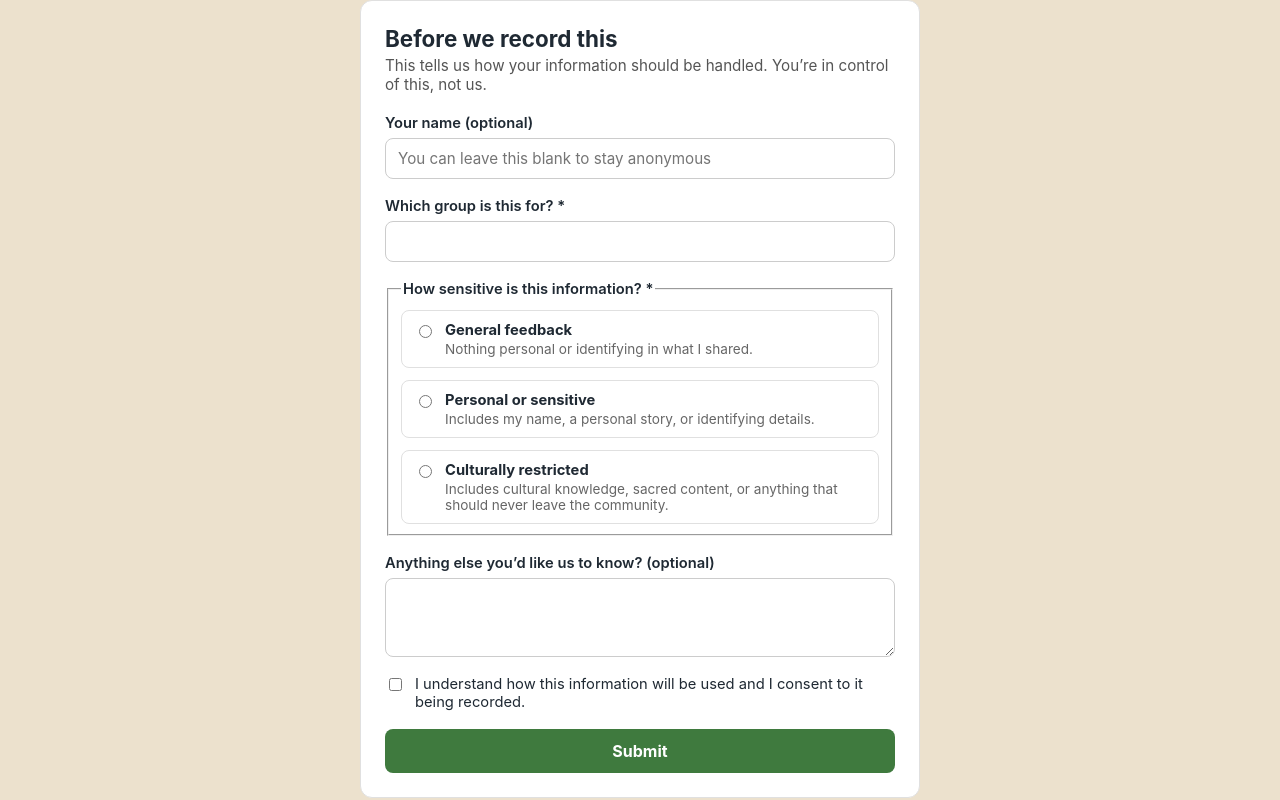
Test: ConsentCapturePage integration (Sub Task 22.3 + 22.4) › shows a success toast and resets the form after a successful submit
Type "Youth Group A" into the field labelled "Which group is this for? *" at (640,242), box [385, 221, 895, 262]
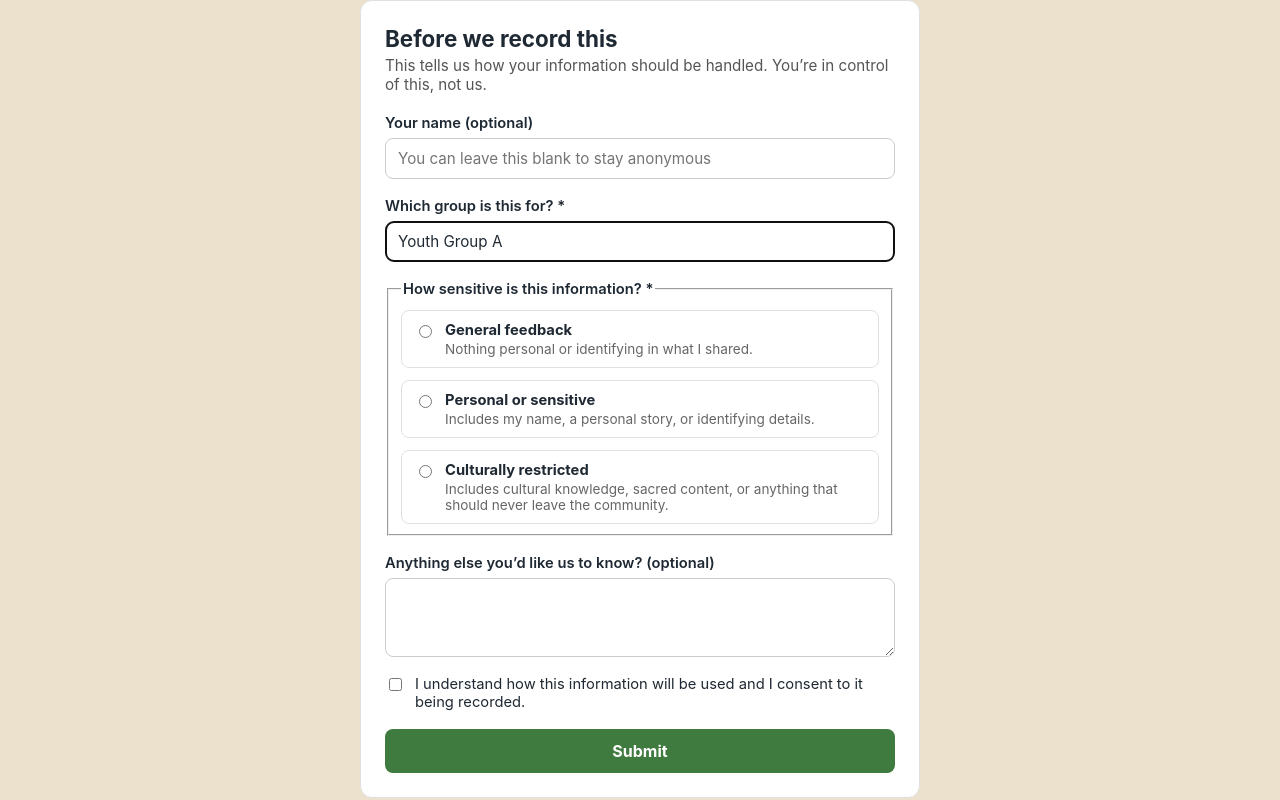
Click the radio button labelled "General feedback" at (426,331), box [419, 325, 432, 338]
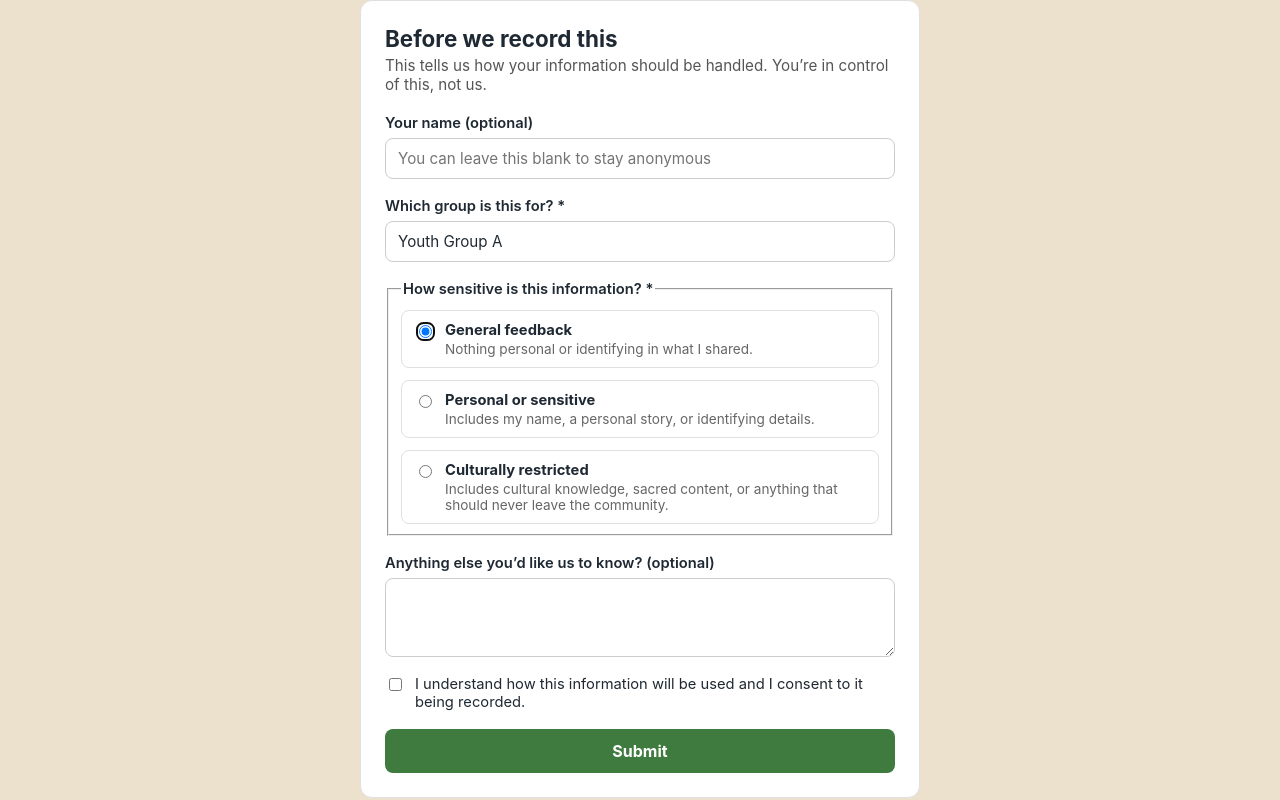
Click the checkbox labelled "I understand how this information" at (396,684), box [389, 678, 402, 691]
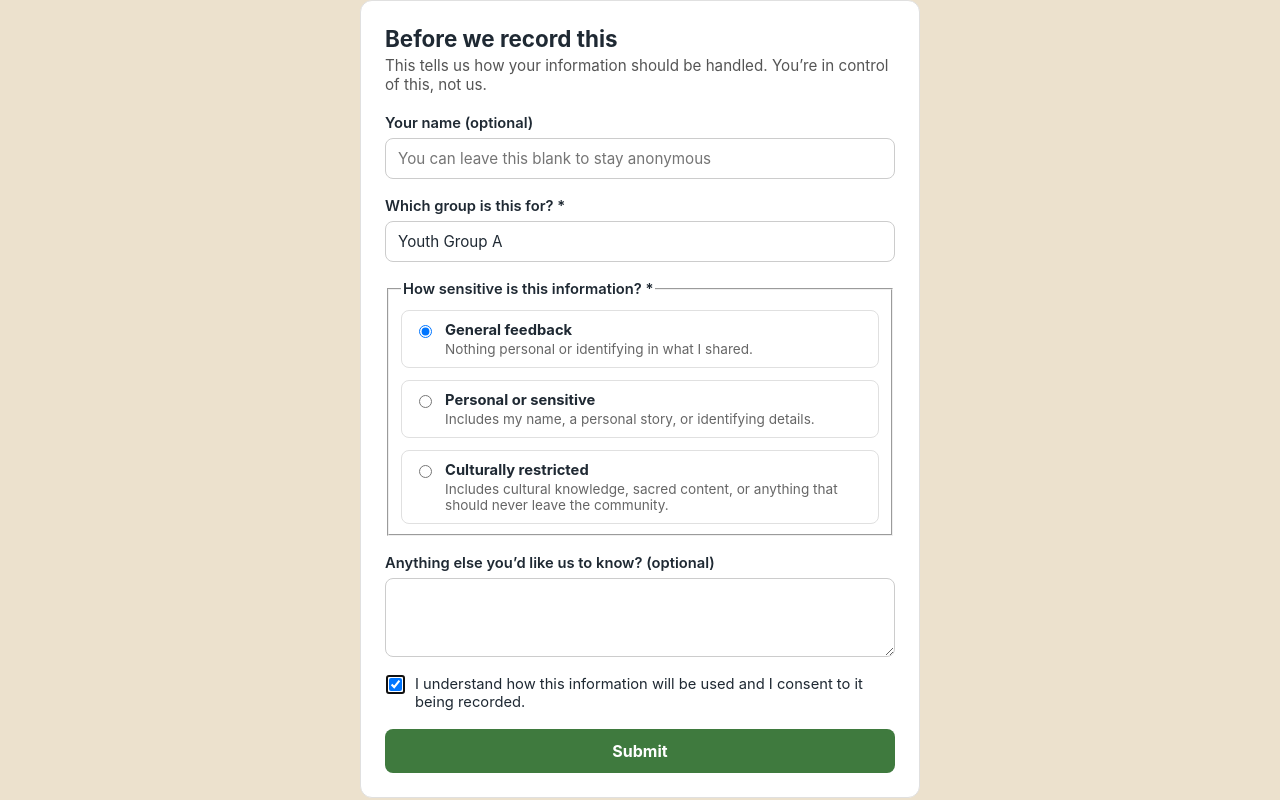
Click the button "Submit" at (640,751), box [385, 729, 895, 773]
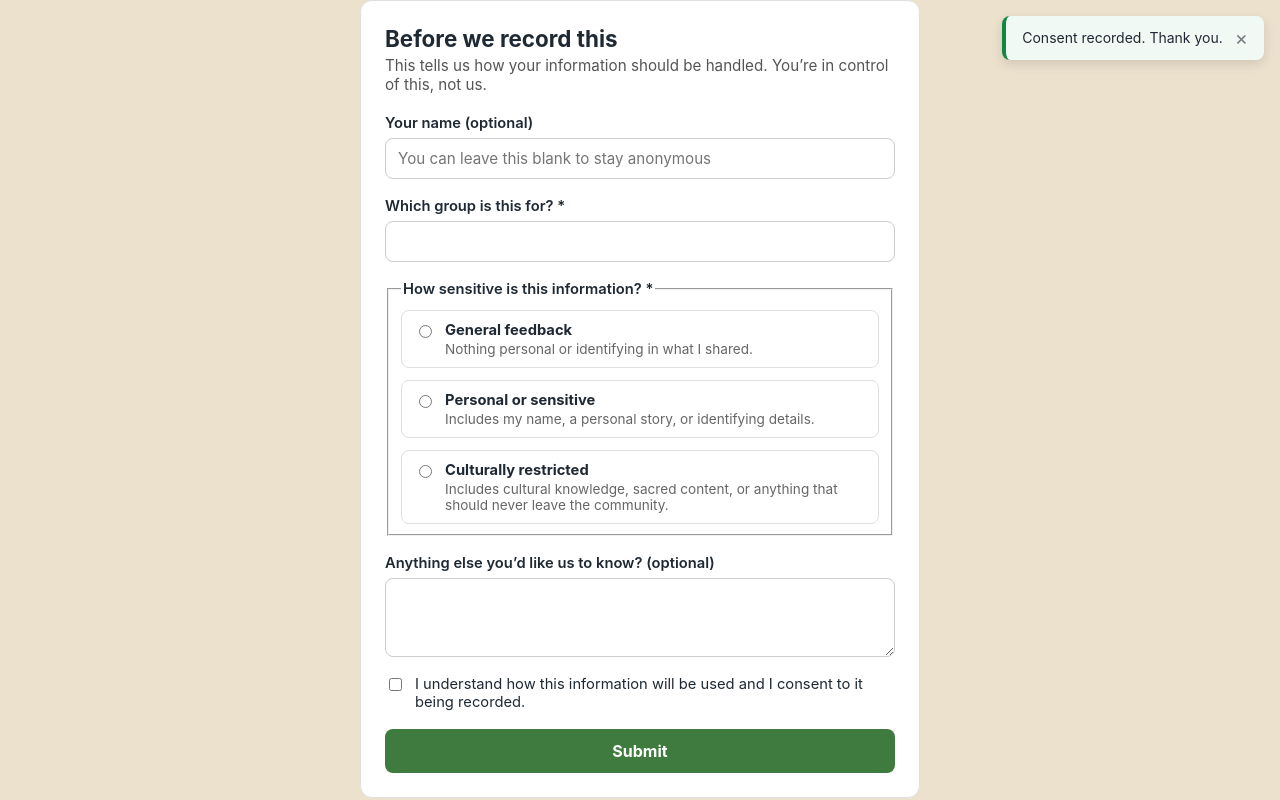
Expected: the text "Consent recorded. Thank you." is shown, [1022, 28, 1223, 48]
Expected: the field labelled "Which group is this for? *" is empty, [385, 221, 895, 262]
